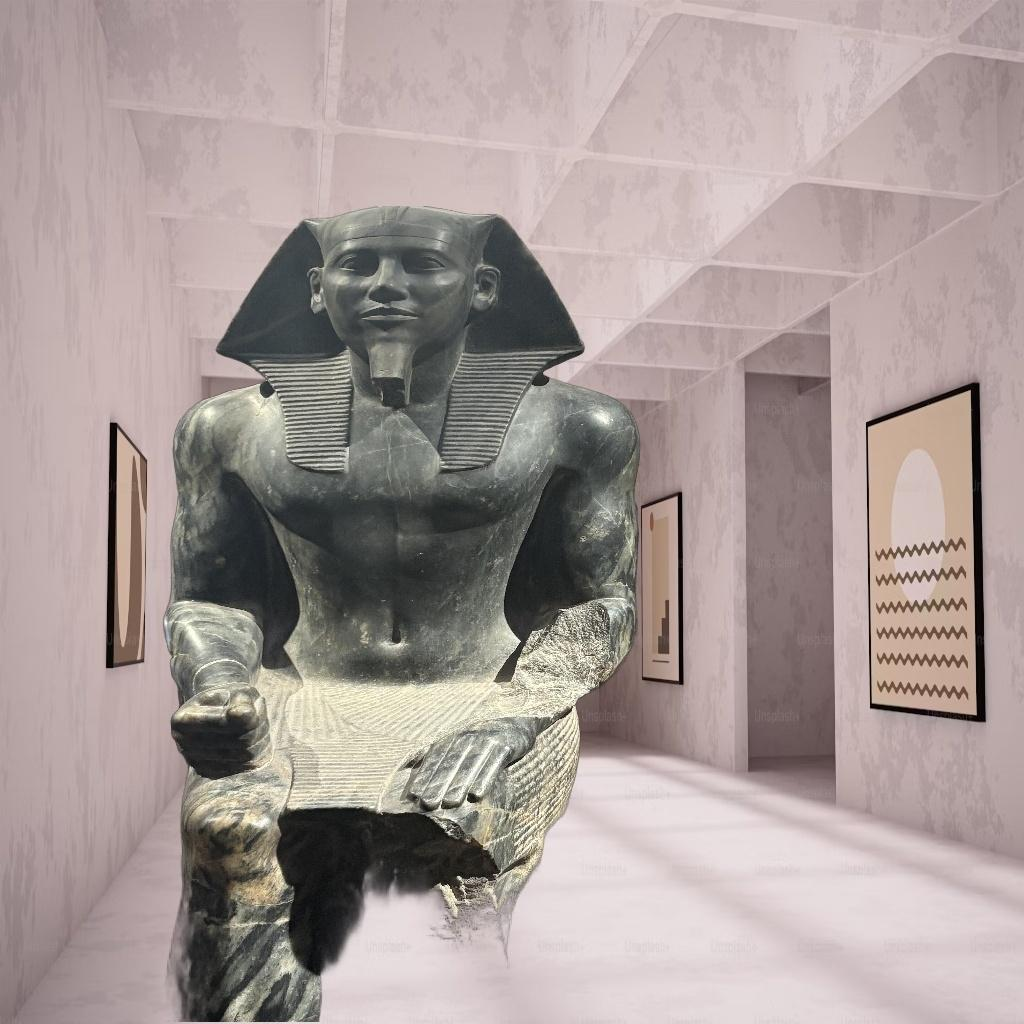Statue of Khafre: (158, 206, 643, 1022)
